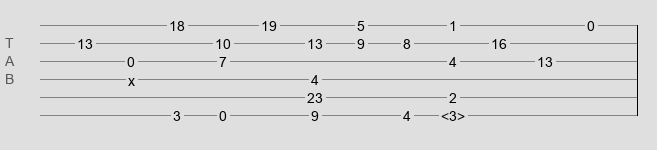0: (127, 54, 135, 64), (219, 108, 227, 118), (587, 18, 595, 28)
1: (449, 18, 457, 28)
10: (215, 36, 231, 46)
13: (77, 36, 93, 46), (307, 36, 323, 46), (537, 54, 553, 64)
16: (491, 36, 507, 46)
18: (169, 18, 185, 28)
19: (261, 18, 277, 28)
2: (449, 90, 457, 100)
23: (307, 90, 323, 100)
3: (173, 108, 181, 118)
4: (311, 72, 319, 82), (403, 108, 411, 118), (449, 54, 457, 64)
5: (357, 18, 365, 28)
7: (219, 54, 227, 64)
8: (403, 36, 411, 46)
9: (311, 108, 319, 118), (357, 36, 365, 46)
harmonic: (441, 108, 465, 118)
x: (128, 73, 135, 81)
